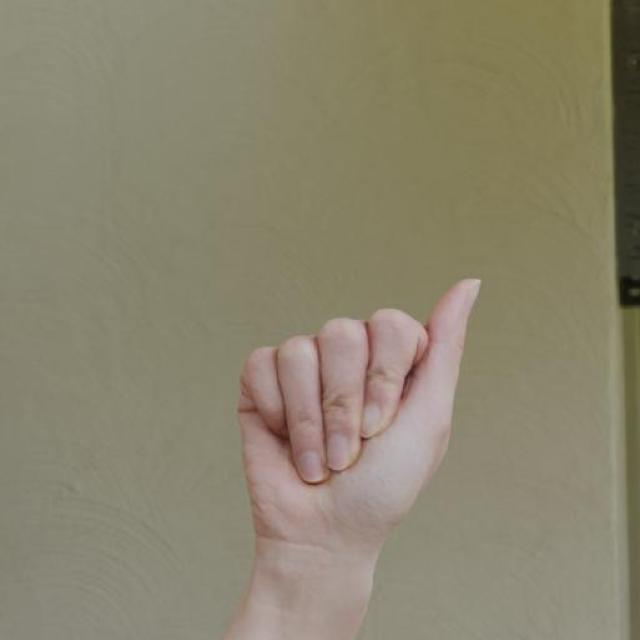A: (236, 274, 484, 542)
